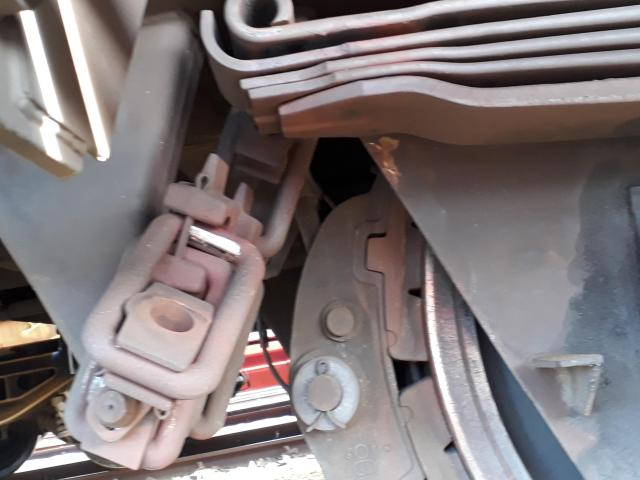blattfederww: (158, 10, 640, 140)
